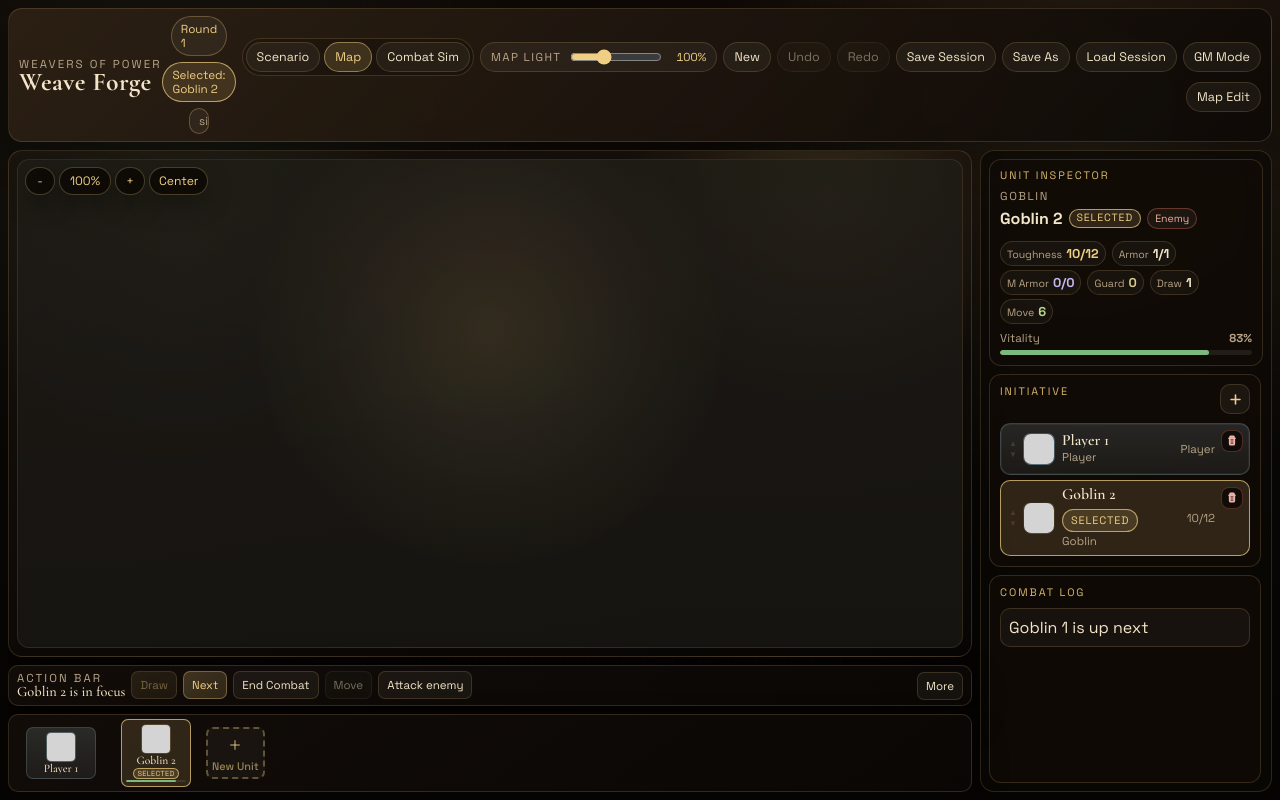
Scenario: App › keeps the primary turn button on Next when a new enemy appears before combat is ended
This screenshot has width=1280, height=800.
Click the button "Next". click: (205, 685)
box: top-left (183, 671), bottom-right (227, 699)
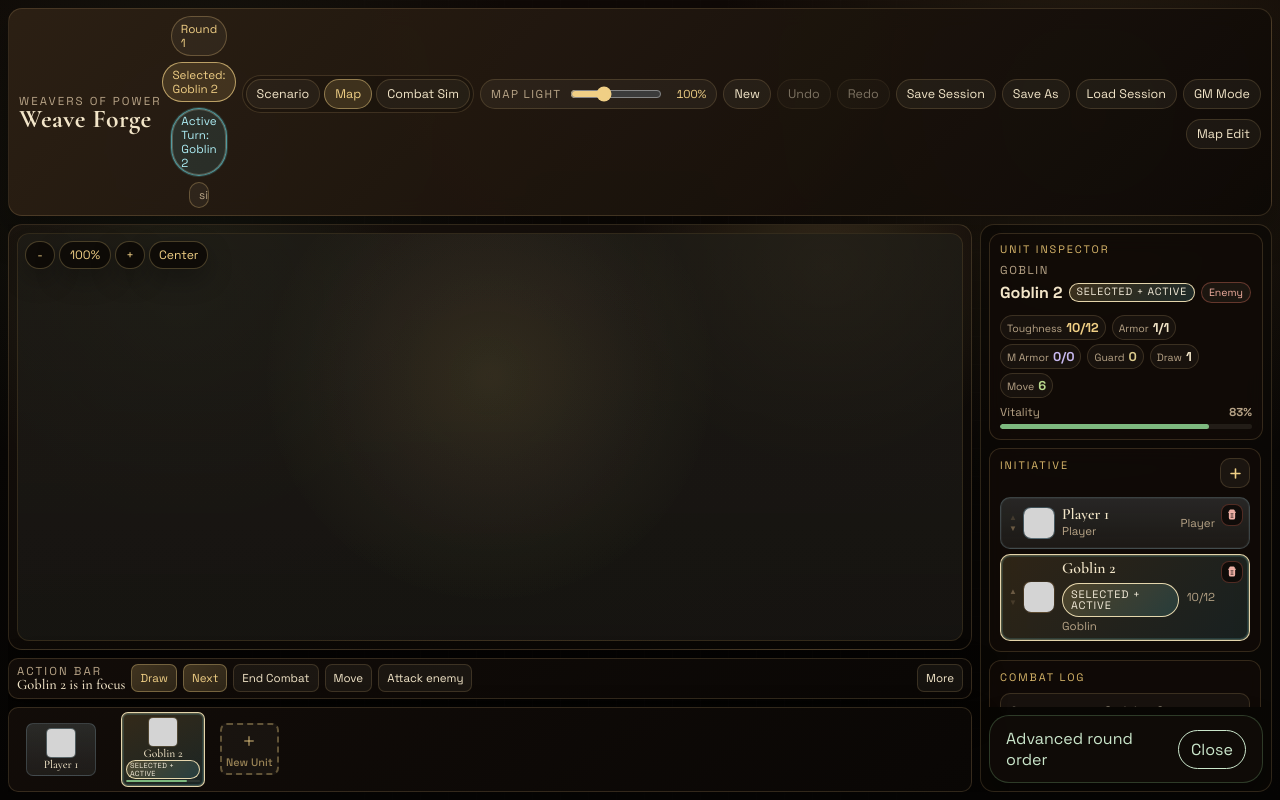
Expected: the text "Active Turn: Goblin 2" is shown, top-left (171, 108), bottom-right (227, 176)
